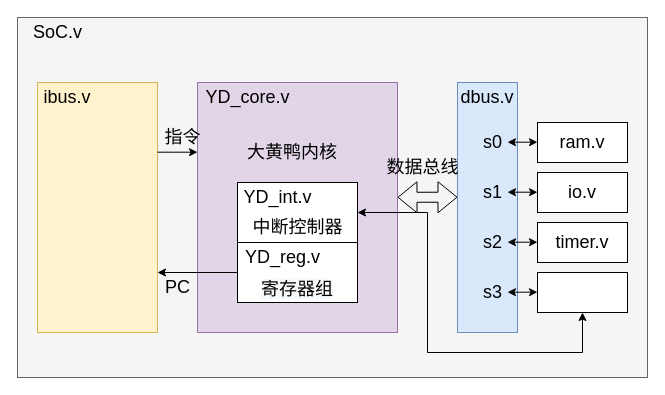
Some shapes in this 665 by 395 pixel diagram are drawn without their labels. The shapes that lost their labels are listed below. From the top down, each one's box as (x1, y1, x2, y2) in pixels, then its label:
(36, 82, 158, 332): 指令空间
(536, 272, 628, 312): intc.v
